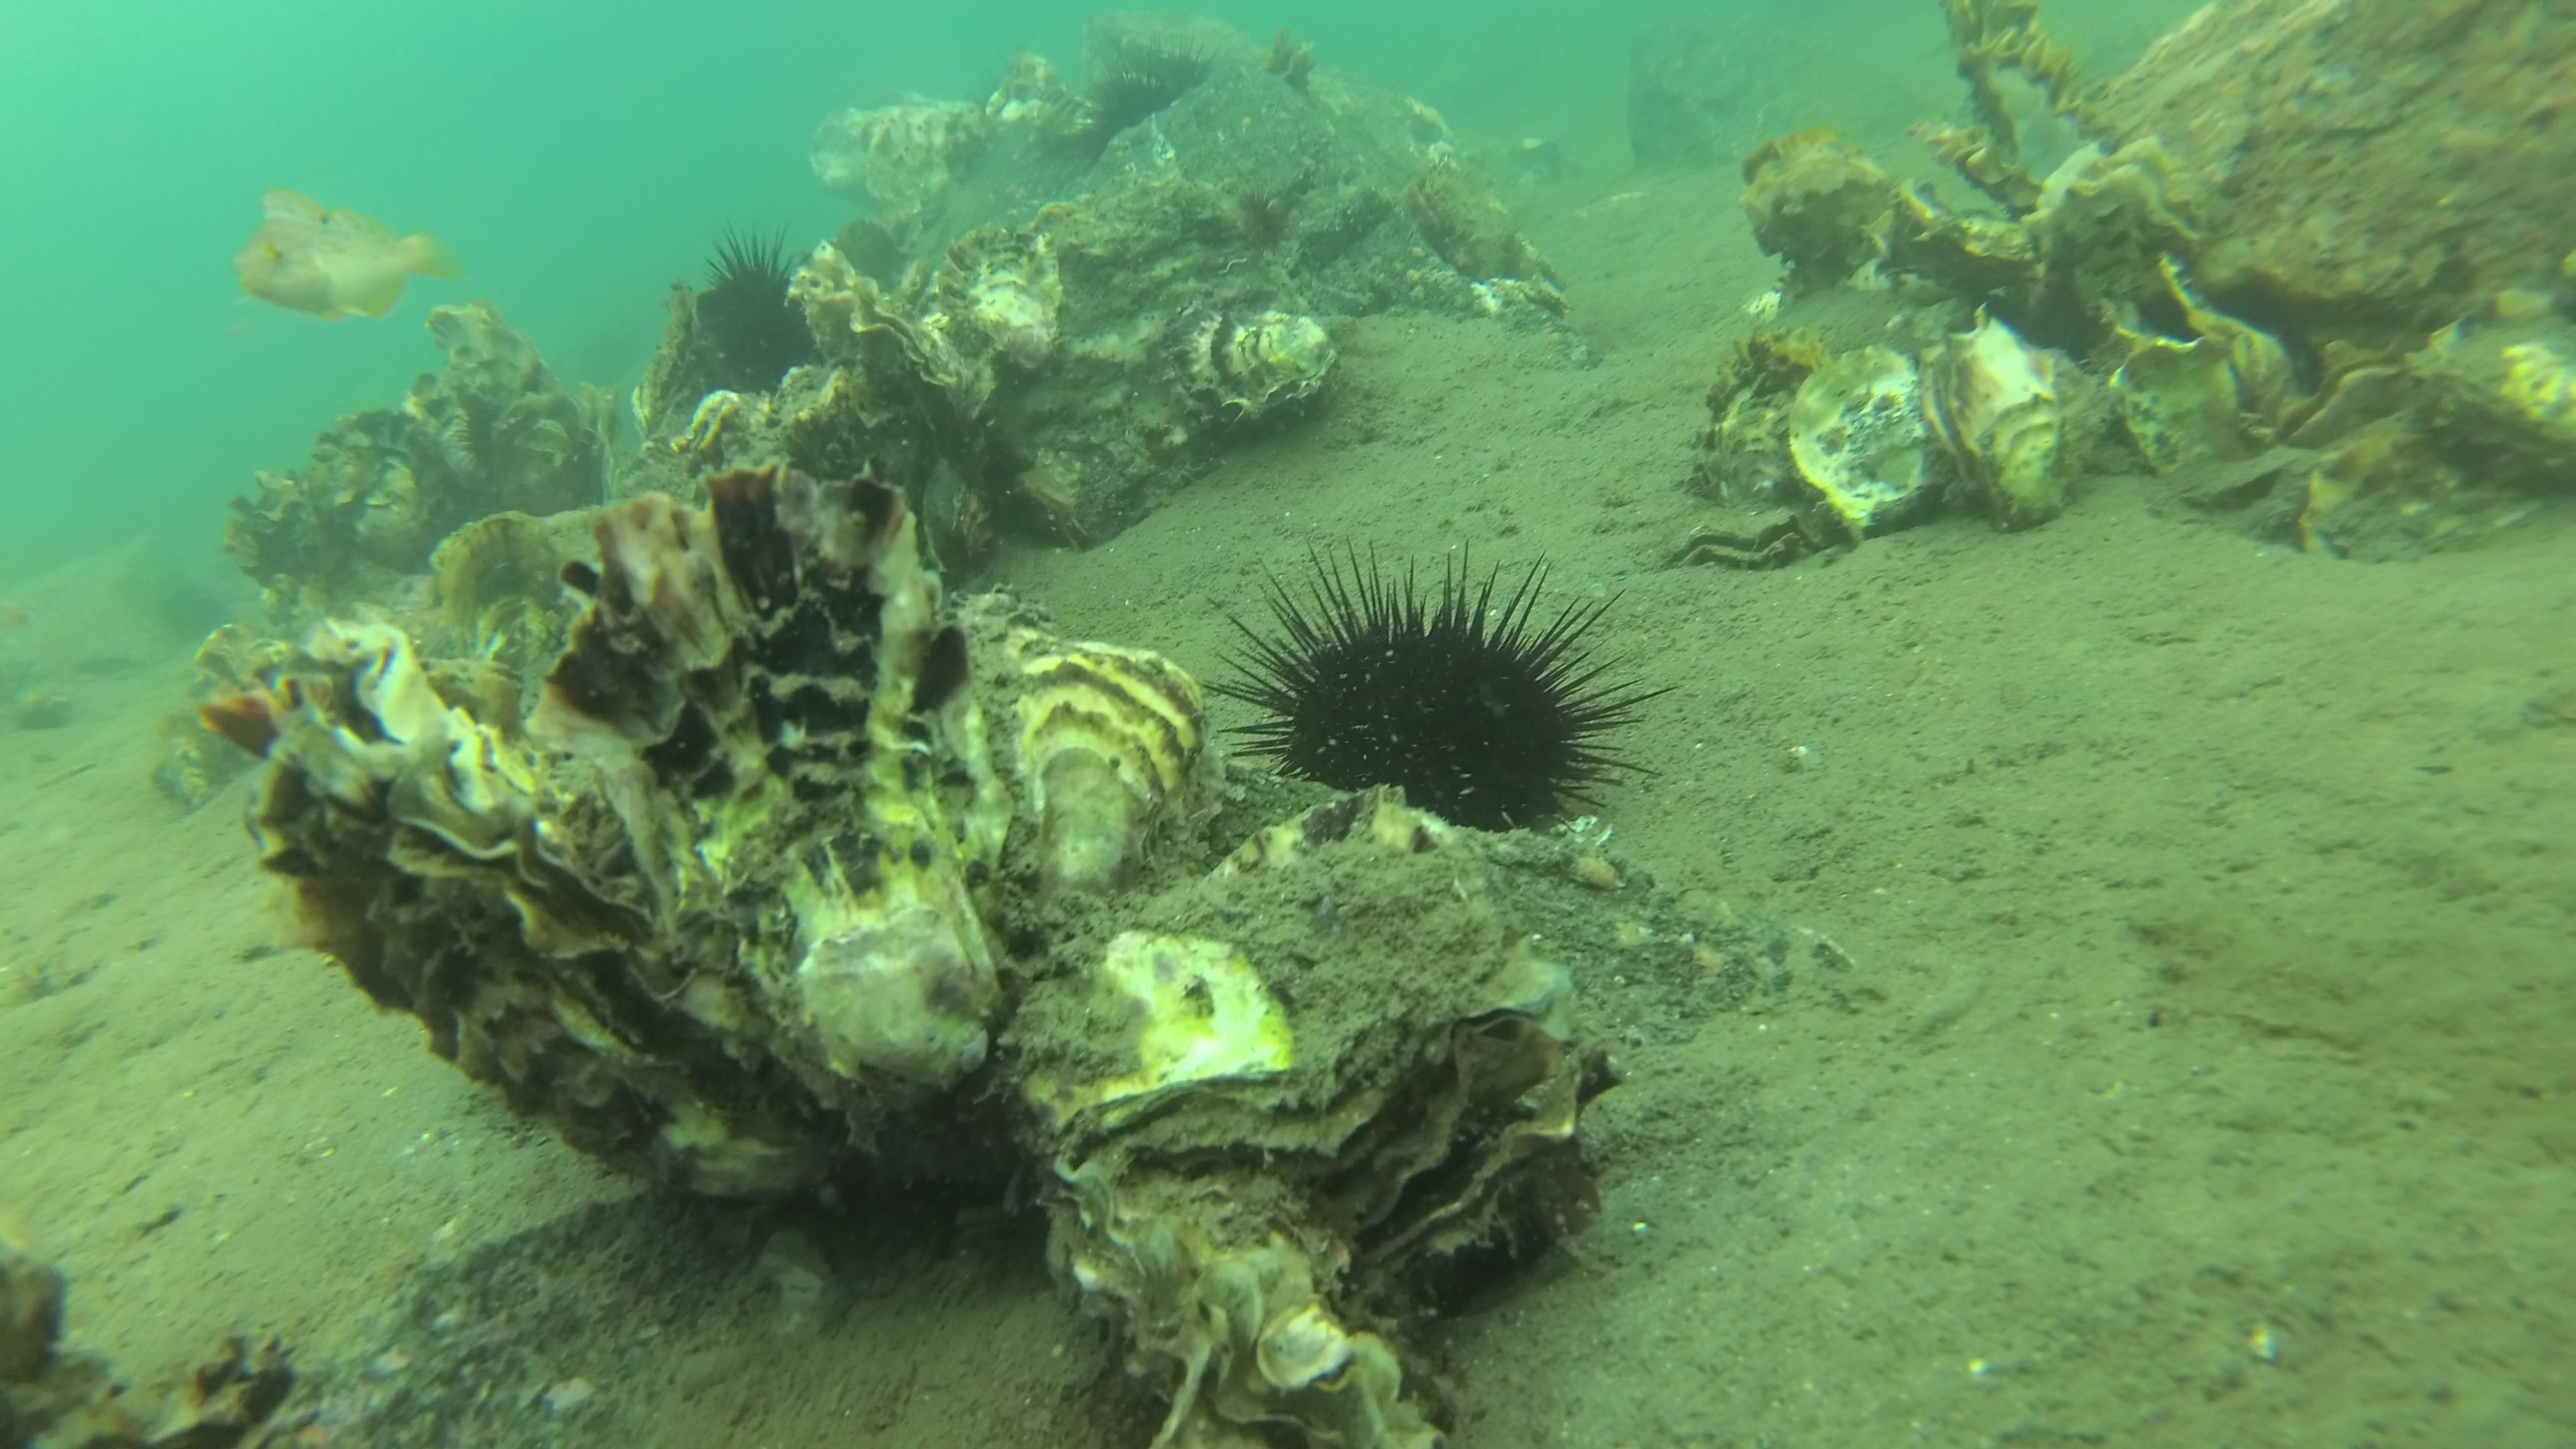echinus: (1200, 536, 1683, 835), (695, 216, 823, 393), (1077, 67, 1180, 168), (1120, 28, 1223, 101), (1238, 184, 1286, 257)
